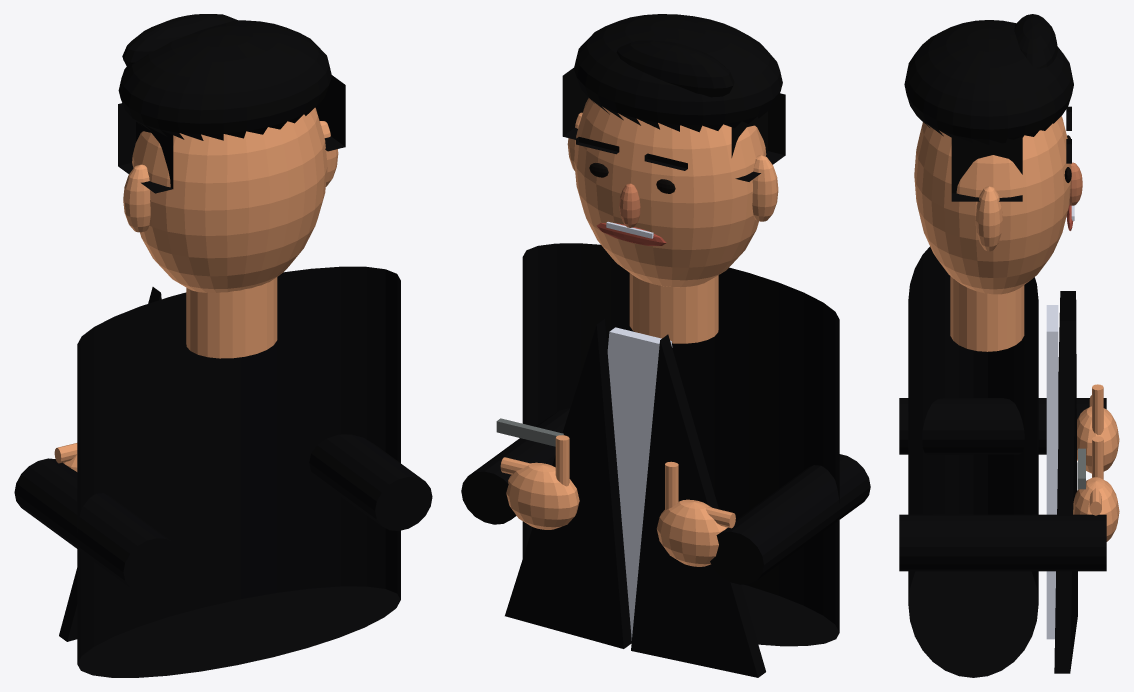
The model's file is cyril-stylized-portrait.obj.
3 views of the same model, side by side, from view 1: azimuth 30°, elevation 25°; view 2: azimuth 150°, elevation 25°; view 3: azimuth 270°, elevation 25° (orthographic). The views are drawn at different scales.
Parts seen in each view (by area): view 1: Cyril_Stylized_Portrait; view 2: Cyril_Stylized_Portrait; view 3: Cyril_Stylized_Portrait.
Part boxes in pixels (x1,y1,x2,y2): Cyril_Stylized_Portrait: (14,14,432,677); Cyril_Stylized_Portrait: (461,14,870,677); Cyril_Stylized_Portrait: (899,14,1119,677).
Size of the model in its own units: 1.76 by 3.22 by 1.12.
